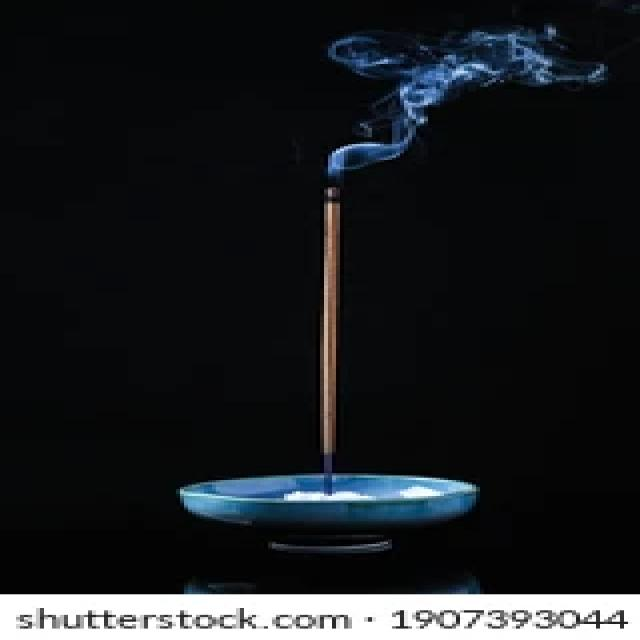Agarbatti: (302, 167, 362, 492)
